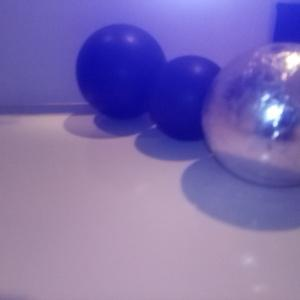alive_ball: (200, 42, 300, 185)
dead_ball: (76, 23, 169, 116), (149, 55, 228, 141)
